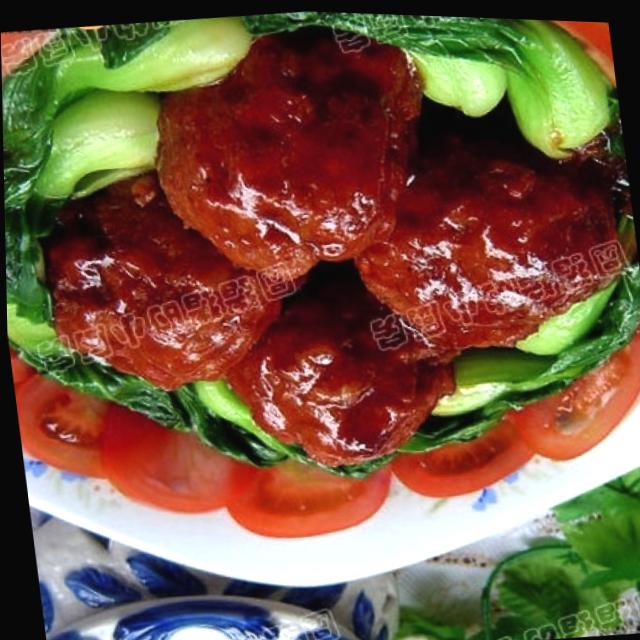猪肉菜式: (0, 0, 640, 619)
